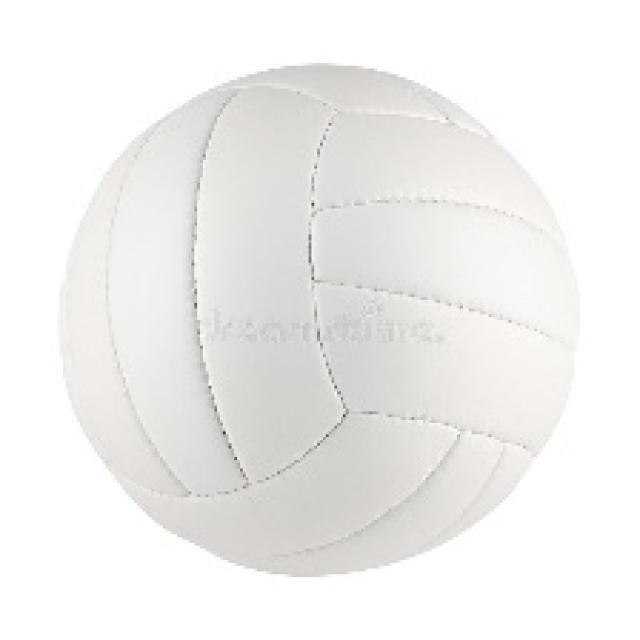volleyball: (57, 64, 583, 578)
